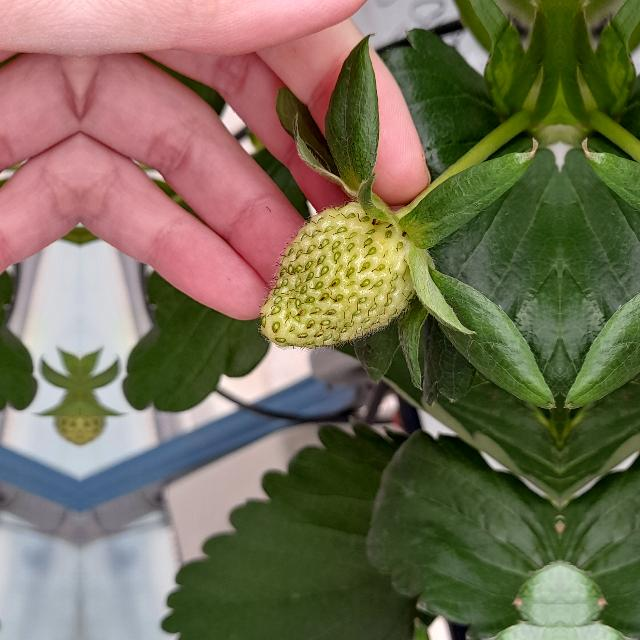Health_25: (260, 202, 414, 348)
